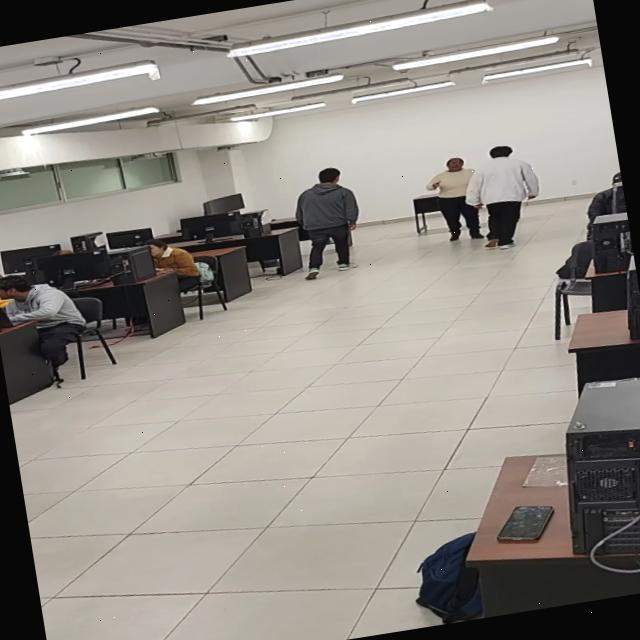Persona: (456, 141, 546, 254), (286, 163, 368, 282), (423, 154, 486, 245)
